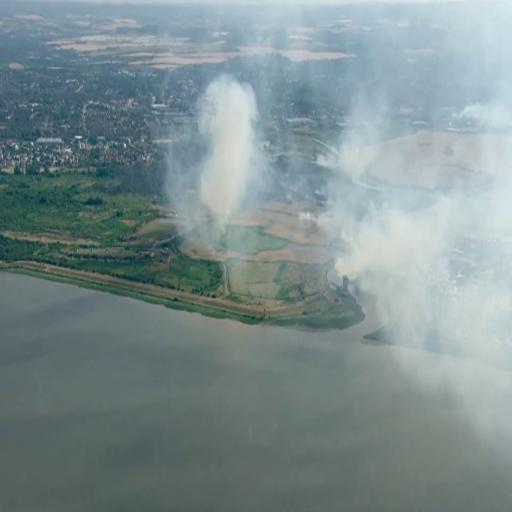smoke: (204, 63, 269, 189)
